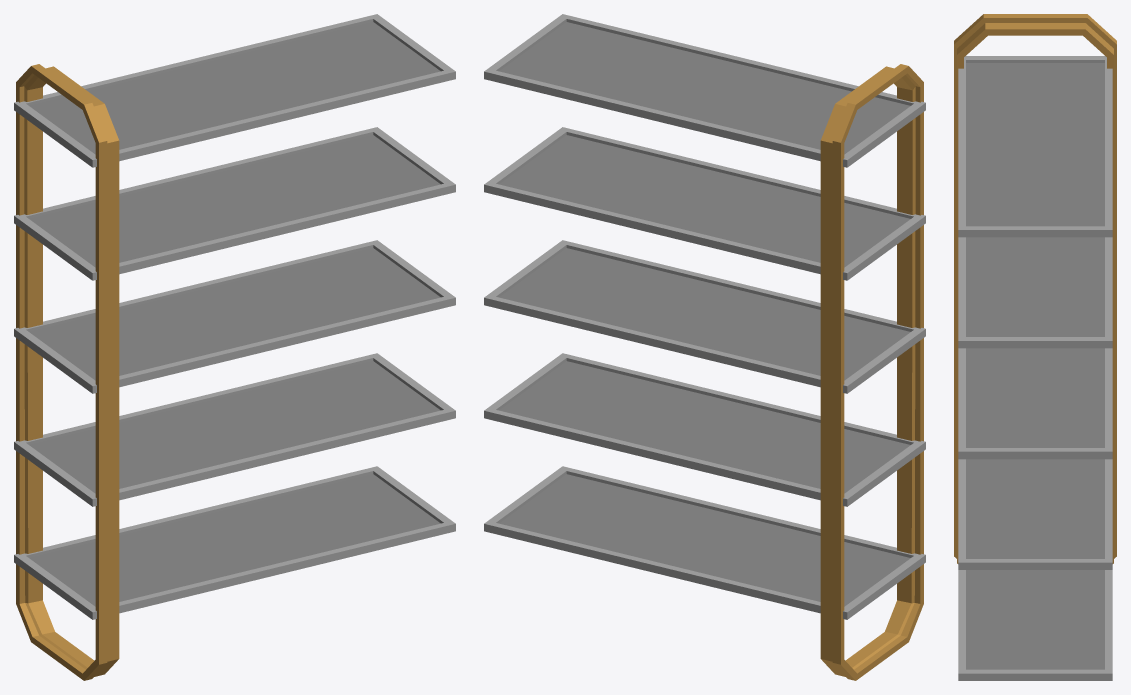
The model's file is Props_Shelf_Tall.gltf.
3 views of the same model, side by side, from view 1: azimuth 30°, elevation 25°; view 2: azimuth 150°, elevation 25°; view 3: azimuth 270°, elevation 25° (orthographic).
Visible parts, largest first — view 1: Props_Shelf_Tall; view 2: Props_Shelf_Tall; view 3: Props_Shelf_Tall.
Boxes of the visible parts, x1,y1,x2,y2 form: Props_Shelf_Tall: [14, 14, 455, 680]; Props_Shelf_Tall: [484, 14, 925, 680]; Props_Shelf_Tall: [954, 14, 1116, 680].
Size of the model in its own units: 2.05 by 3.11 by 0.8108.
